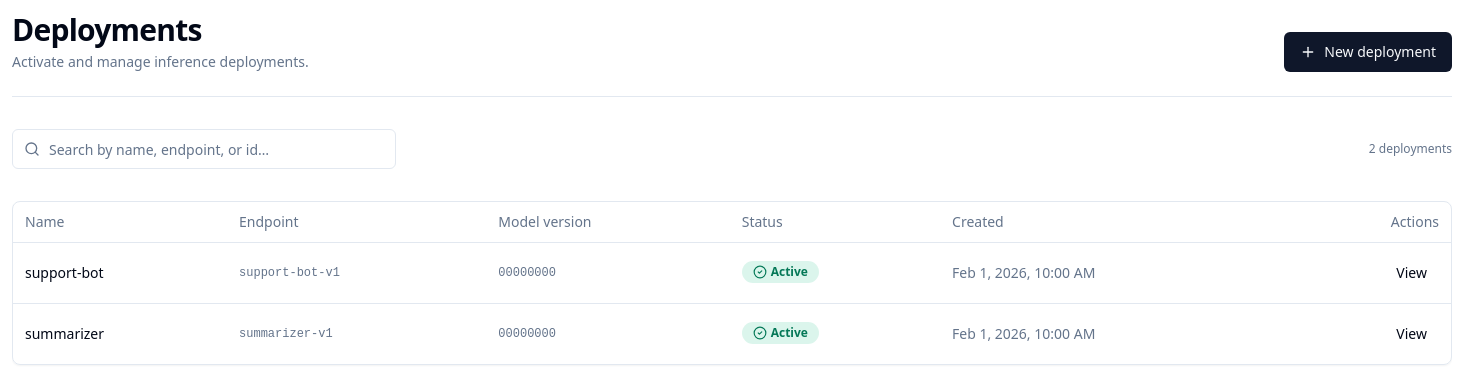
DeploymentsPage › filters rows client-side by search query
Expected: the link "support-bot" is shown, [25,262,104,282]
Type "summarizer" into the field named "search deployments" at (204, 149), box [12,129,396,169]
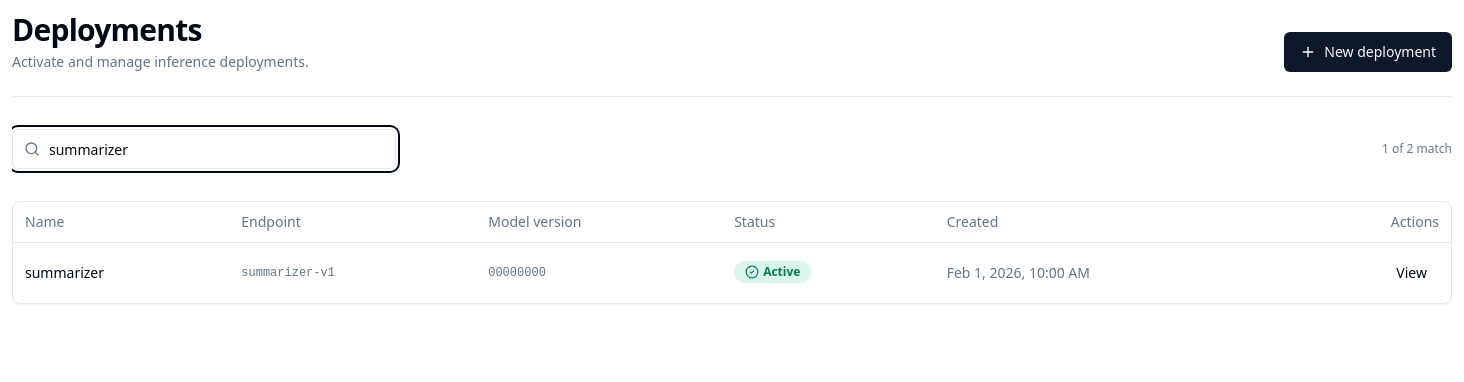
Expected: the link "summarizer" is shown, [25,262,104,282]
Expected: the link "support-bot" is gone
